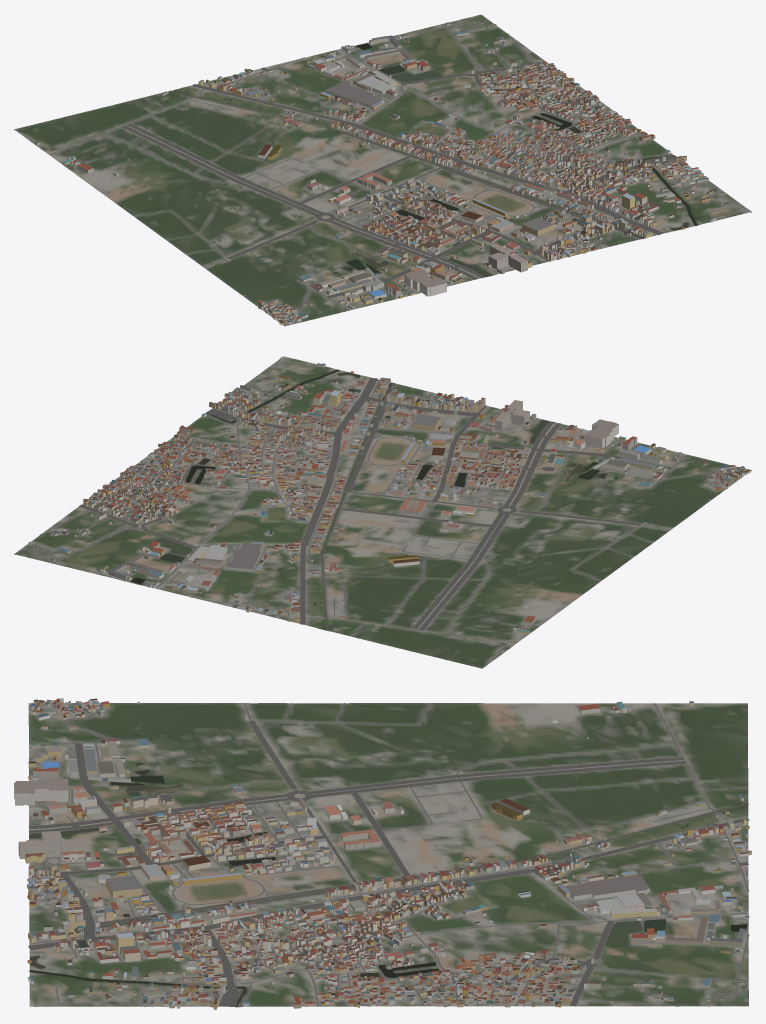
The picture shows the model from 3 angles, top to bottom: view 1: azimuth 30°, elevation 25°; view 2: azimuth 150°, elevation 25°; view 3: azimuth 270°, elevation 25°; orthographic projection. The views are drawn at different scales.
Visible parts, largest first — view 1: ground, buildings, roads, water; view 2: ground, buildings, roads, water; view 3: ground, buildings, roads, water.
Part boxes in pixels (left/top/right/bottom): ground: left=14, top=14, right=751, bottom=326; buildings: left=35, top=22, right=725, bottom=325; roads: left=49, top=21, right=750, bottom=325; water: left=168, top=43, right=697, bottom=290; ground: left=14, top=356, right=751, bottom=668; buildings: left=28, top=363, right=750, bottom=653; roads: left=33, top=357, right=747, bottom=642; water: left=130, top=369, right=620, bottom=630; ground: left=28, top=703, right=748, bottom=1007; buildings: left=14, top=698, right=751, bottom=1009; roads: left=28, top=703, right=749, bottom=1006; water: left=29, top=763, right=748, bottom=1006.
Bounding box in the file's own units: 1418 × 35.92 × 1438.
